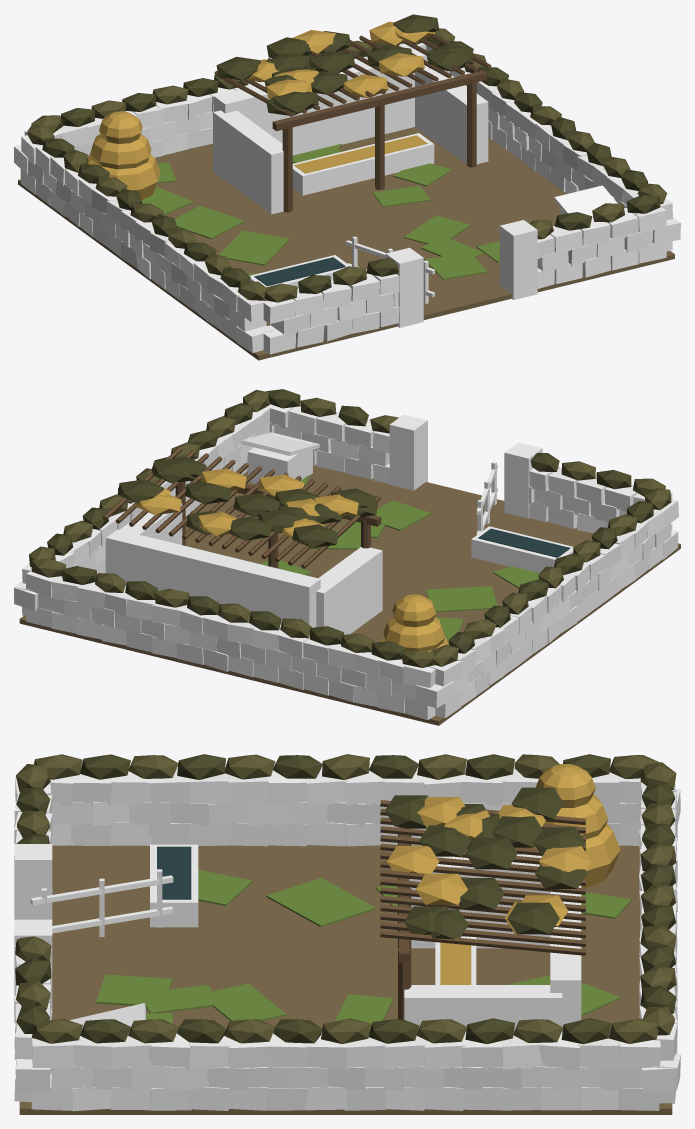
Rendered from agil.glb.
3 views of the same model, one above another, from view 1: azimuth 30°, elevation 25°; view 2: azimuth 150°, elevation 25°; view 3: azimuth 270°, elevation 25° (orthographic). The views are drawn at different scales.
Parts seen in each view (by area): view 1: CitDikme; view 2: CitDikme; view 3: CitDikme.
Boxes of the visible parts, x1,y1,x2,y2 form: CitDikme: (14,14,680,360); CitDikme: (14,389,680,725); CitDikme: (14,754,680,1114).
Size of the model in its own units: 0.9994 by 0.2754 by 1.
